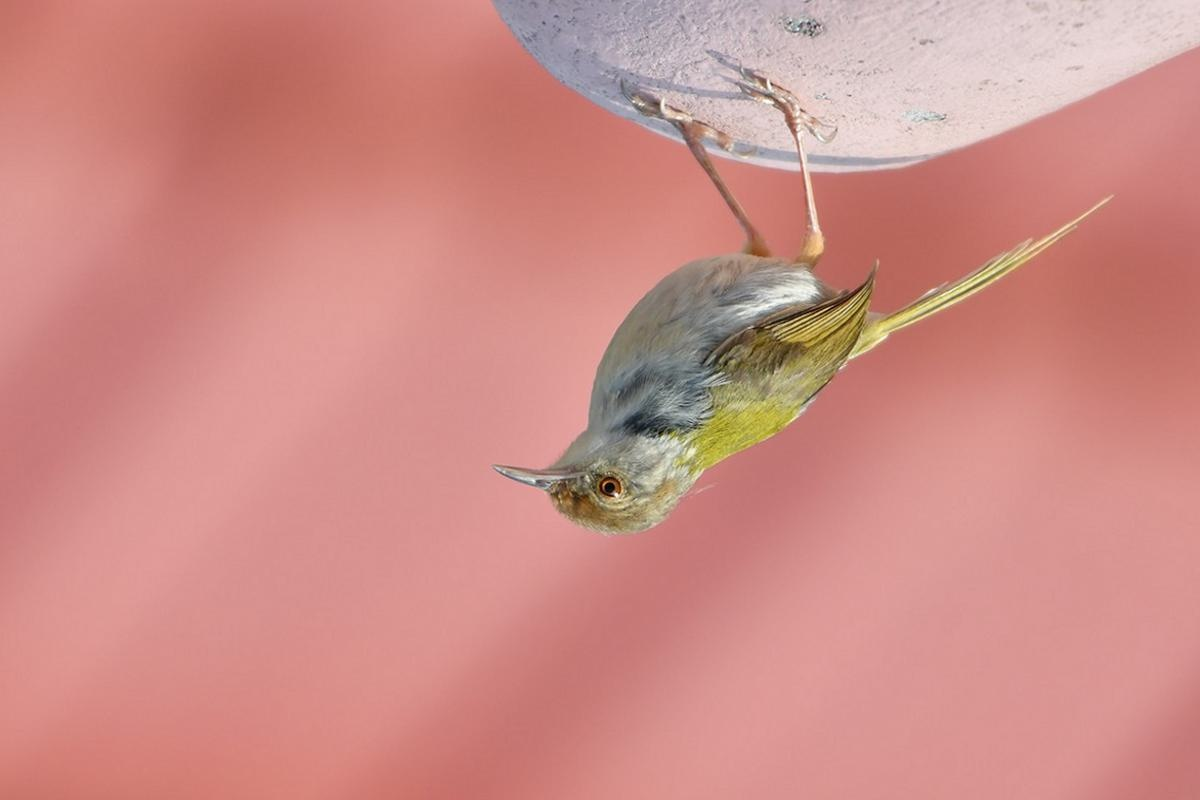tailorbird: (484, 103, 1100, 557)
